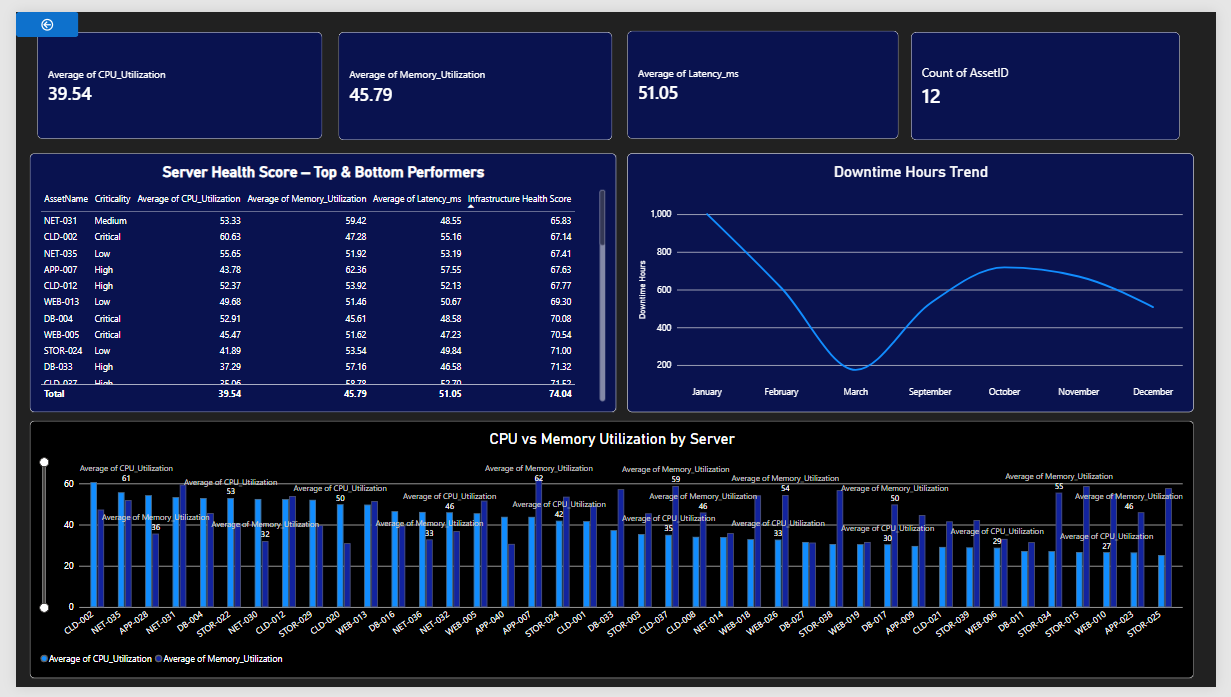

Layout of this report page (visuals, bound fields, positions):
{"tool":"powerbi","page":{"name":"Infrastructure Health","canvas":[1920,1080],"ordinal":1},"visuals":[{"type":"cardVisual","fields":{"Data":["Avg(it_infrastructure_health performance_metrics.CPU_Utilization)"]},"box":[35,31.3,456.4,171.2],"z":0},{"type":"cardVisual","fields":{"Data":["Avg(it_infrastructure_health performance_metrics.Memory_Utilization)"]},"box":[515.3,31.3,438,173],"z":1000},{"type":"cardVisual","fields":{"Data":["Avg(it_infrastructure_health performance_metrics.Latency_ms)"]},"box":[977.3,29.4,434.4,173],"z":2000},{"type":"cardVisual","fields":{"Data":["CountNonNull(it_infrastructure_health infrastructure_assets.AssetID)"]},"box":[1431.9,31.3,430.7,173],"z":3000},{"type":"clusteredColumnChart","title":"CPU vs Memory Utilization by Server","fields":{"Category":["it_infrastructure_health infrastructure_assets.AssetName"],"Y":["Avg(it_infrastructure_health performance_metrics.CPU_Utilization)","Avg(it_infrastructure_health performance_metrics.Memory_Utilization)"]},"box":[22,654,1862,412],"z":4000},{"type":"lineChart","title":"Downtime Hours Trend","fields":{"Category":["it_infrastructure_health incidents.OpenDateTime.Variation.Date Hierarchy.Month"],"Y":["it_infrastructure_health business_impact.Downtime Hours"]},"box":[978,226,906,414],"z":5000},{"type":"tableEx","title":"Server Health Score – Top & Bottom Performers","fields":{"Values":["it_infrastructure_health infrastructure_assets.AssetName","it_infrastructure_health infrastructure_assets.Criticality","Avg(it_infrastructure_health performance_metrics.CPU_Utilization)","Avg(it_infrastructure_health performance_metrics.Memory_Utilization)","Avg(it_infrastructure_health performance_metrics.Latency_ms)","it_infrastructure_health infrastructure_assets.Infrastructure Health Score"]},"box":[22,226,938,414],"z":6000},{"type":"actionButton","box":[0,0,100,40],"z":7000}]}

Visuals, with their boxes on the page's 1920x1080 design canvas (x1, y1, x2, y2). These are canvas units, not pixel positions in the 1231x697 screenshot, which may show the page scaled, cropped or inside an application window:
cardVisual - Avg(it_infrastructure_health performance_metrics.CPU_Utilization): bbox=[35, 31, 491, 202]
cardVisual - Avg(it_infrastructure_health performance_metrics.Memory_Utilization): bbox=[515, 31, 953, 204]
cardVisual - Avg(it_infrastructure_health performance_metrics.Latency_ms): bbox=[977, 29, 1412, 202]
cardVisual - CountNonNull(it_infrastructure_health infrastructure_assets.AssetID): bbox=[1432, 31, 1863, 204]
"CPU vs Memory Utilization by Server" clusteredColumnChart: bbox=[22, 654, 1884, 1066]
"Downtime Hours Trend" lineChart: bbox=[978, 226, 1884, 640]
"Server Health Score – Top & Bottom Performers" tableEx: bbox=[22, 226, 960, 640]
actionButton: bbox=[0, 0, 100, 40]
